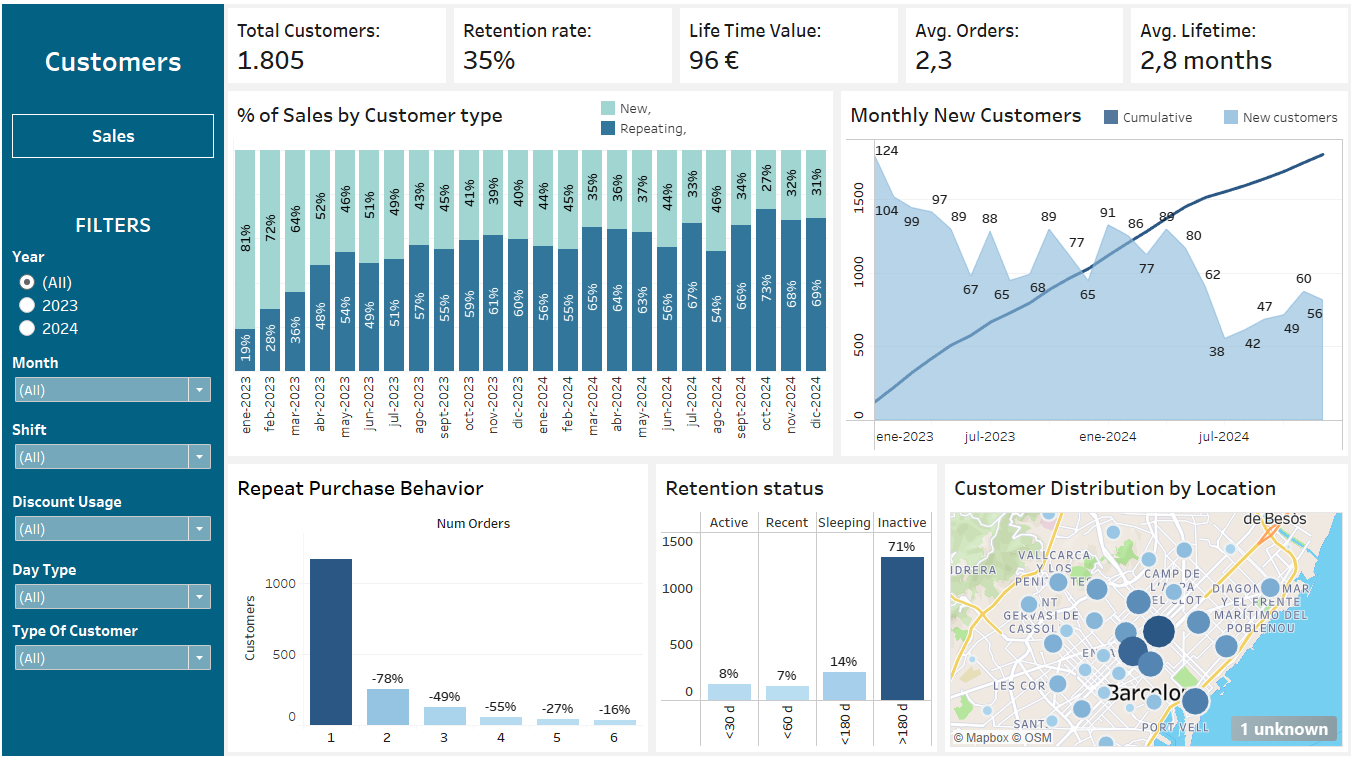

Layout of this report page (visuals, bound fields, positions):
{"tool":"tableau","page":{"name":"Customers Dashboard ","canvas":[1366,768],"ordinal":0},"visuals":[{"type":"worksheet","title":"Total Customers","mark":"Automatic","box":[230,8,226,83]},{"type":"worksheet","title":"Retention rate","mark":"Automatic","box":[456,8,226,83]},{"type":"worksheet","title":"LTV KPI","mark":"Automatic","box":[682,8,226,83]},{"type":"worksheet","title":"Avg. Orders per Customer","mark":"Automatic","box":[908,8,225,83]},{"type":"worksheet","title":"ALT","mark":"Automatic","box":[1133,8,225,83]},{"type":"text","box":[14,14,209.6,100]},{"type":"worksheet","title":"Orders by Customer type","mark":"Bar","cols":["order_date"],"box":[229.6,91,613,373]},{"type":"worksheet","title":"Running Total Customers","mark":"Line","rows":["Calculation_1529535029283713033","Calculation_1529535029283713033"],"cols":["order_date"],"box":[842.6,91,515.4,373]},{"type":"legend","title":"Orders by Customer type","param":"[federated.16ij4cu1g5t8ux11aa9n81nwd3ul].[none:new_customer:nk]\n[federated.16ij4","box":[604,102,247,48]},{"type":"dashboard-object","box":[14,114,209.6,52]},{"type":"text","box":[14,166,209.6,80]},{"type":"filter","title":"ALT","param":"[federated.16ij4cu1g5t8ux11aa9n81nwd3ul].[none:year:nk]","box":[14,246,209.6,106]},{"type":"filter","title":"Orders by Customer type","param":"[federated.16ij4cu1g5t8ux11aa9n81nwd3ul].[tmn:order_date:ok]","box":[14,352,209.6,67]},{"type":"filter","title":"ALT","param":"[federated.16ij4cu1g5t8ux11aa9n81nwd3ul].[none:shift:nk]","box":[14,419,209.6,72]},{"type":"worksheet","title":"Distribution of Orders","mark":"Automatic","rows":["Calculation_1529535029271425031"],"cols":["num_orders"],"box":[229.6,464,428.4,296]},{"type":"worksheet","title":"Retention status","mark":"Automatic","rows":["Calculation_1529535029271425031"],"cols":["retention_status","Calculation_1914029847553638407"],"box":[658,464,289,296]},{"type":"worksheet","title":"Sales by Neighborhood","mark":"Pie","box":[947,464,411,296]},{"type":"filter","title":"LTV KPI","param":"[federated.16ij4cu1g5t8ux11aa9n81nwd3ul].[none:discount_usage:nk]","box":[14,491,209.6,68]},{"type":"filter","title":"Orders by Customer type","param":"[federated.16ij4cu1g5t8ux11aa9n81nwd3ul].[none:day_type:nk]","box":[14,559,209.6,61]},{"type":"filter","title":"Running Total Customers","param":"[federated.16ij4cu1g5t8ux11aa9n81nwd3ul].[none:type_of_customer:nk]","box":[14,620,209.6,61]}]}

Visuals, with their boxes in screenshot pixels (x1, y1, x2, y2), scaled from the page's 1366x768 canvas onto the 1351x764 screenshot:
"Total Customers" worksheet: [227,8,451,91]
"Retention rate" worksheet: [451,8,675,91]
"LTV KPI" worksheet: [675,8,898,91]
"Avg. Orders per Customer" worksheet: [898,8,1121,91]
"ALT" worksheet: [1121,8,1343,91]
text: [14,14,221,113]
"Orders by Customer type" worksheet (Bar marks): [227,91,833,462]
"Running Total Customers" worksheet (Line marks): [833,91,1343,462]
"Orders by Customer type" legend: [597,101,842,149]
dashboard-object: [14,113,221,165]
text: [14,165,221,245]
"ALT" filter: [14,245,221,350]
"Orders by Customer type" filter: [14,350,221,417]
"ALT" filter: [14,417,221,488]
"Distribution of Orders" worksheet: [227,462,651,756]
"Retention status" worksheet: [651,462,937,756]
"Sales by Neighborhood" worksheet (Pie marks): [937,462,1343,756]
"LTV KPI" filter: [14,488,221,556]
"Orders by Customer type" filter: [14,556,221,617]
"Running Total Customers" filter: [14,617,221,677]
